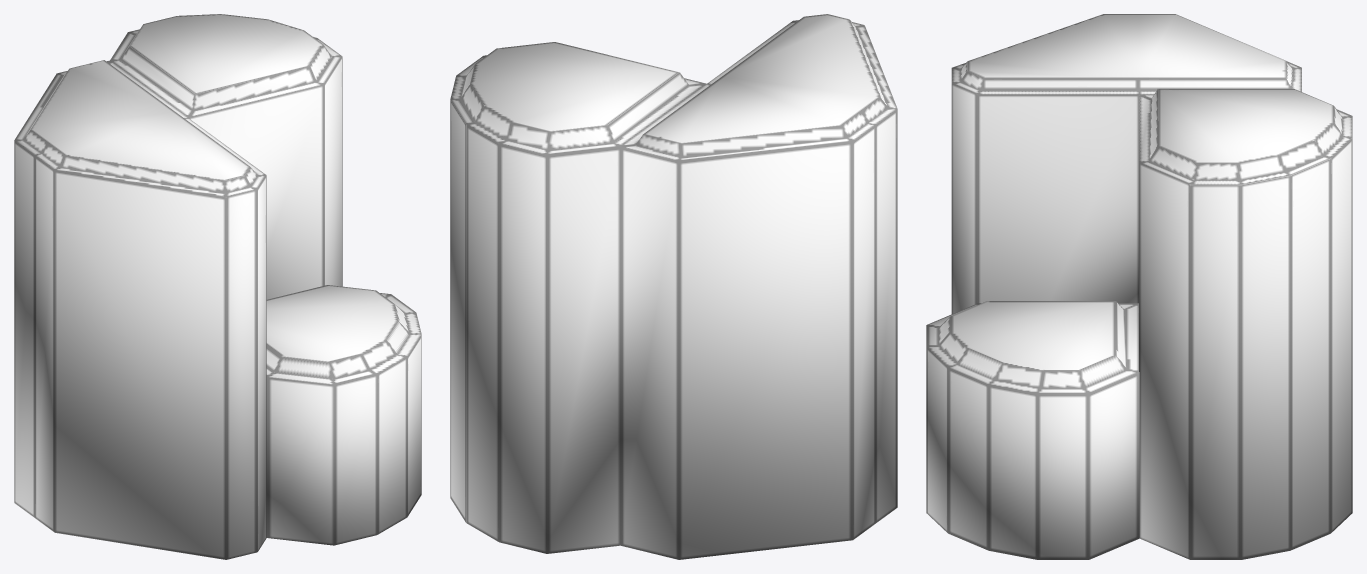
File: skyscraper02.obj
3 views of the same model, side by side, from view 1: azimuth 30°, elevation 25°; view 2: azimuth 150°, elevation 25°; view 3: azimuth 270°, elevation 25° (orthographic). The views are drawn at different scales.
Visible parts, largest first — view 1: cube3_copy12; view 2: cube3_copy12; view 3: cube3_copy12.
Boxes of the visible parts, box(x1,y1,x2,y2) form: cube3_copy12: box(14, 14, 421, 559); cube3_copy12: box(450, 14, 897, 559); cube3_copy12: box(926, 14, 1352, 559).
Bounding box in the file's own units: 1.43 × 1.55 × 1.54.
1 material, 1 textured.
